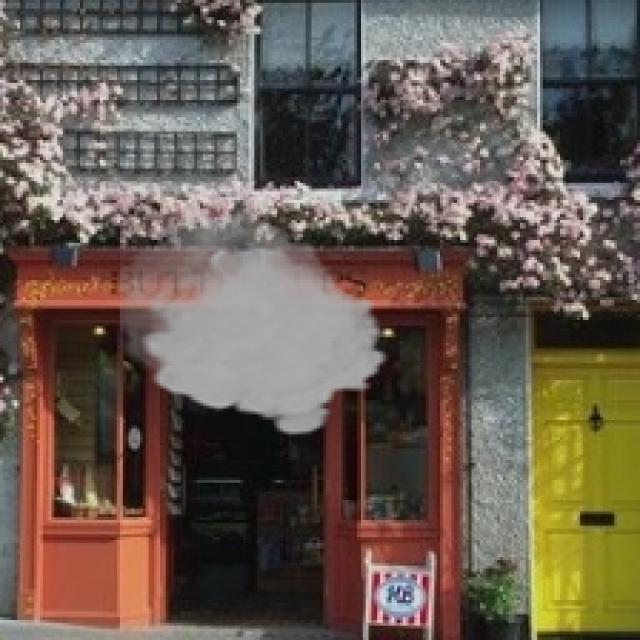Smoke: (120, 197, 392, 437)
